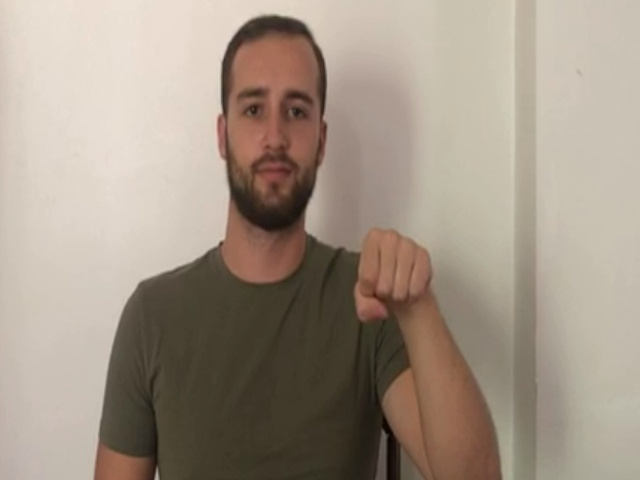Da: (351, 224, 434, 326)
